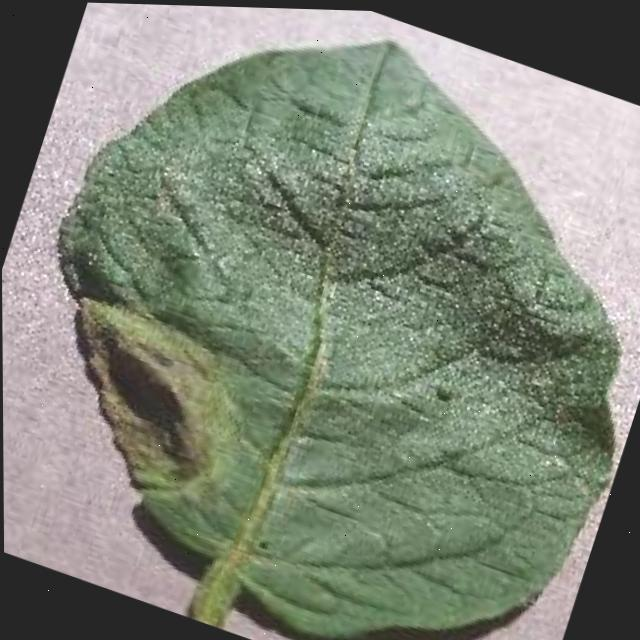Late_blight: (25, 272, 290, 522)
